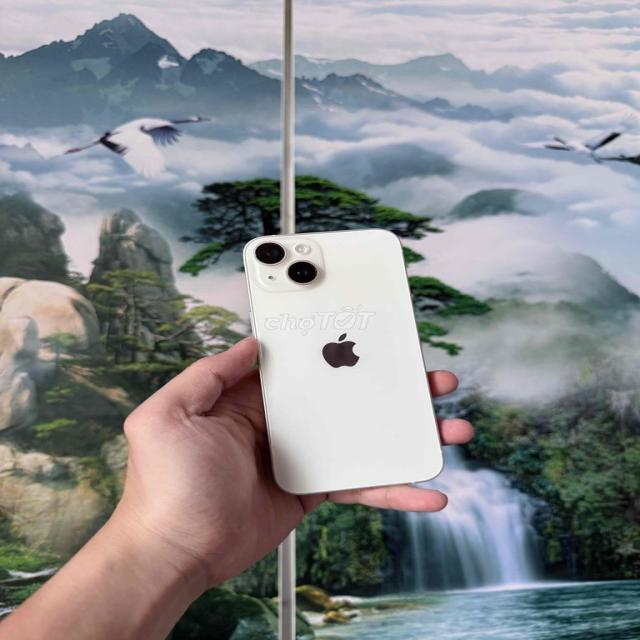gen_14: (235, 228, 444, 504)
